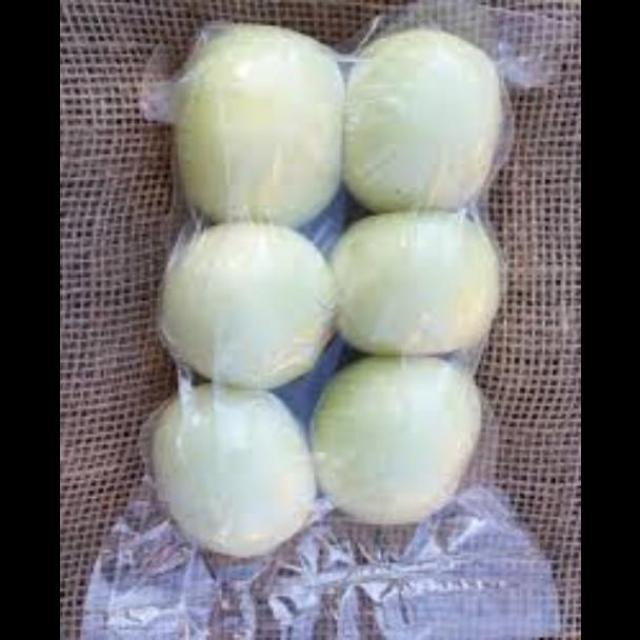onion: (114, 23, 508, 562)
